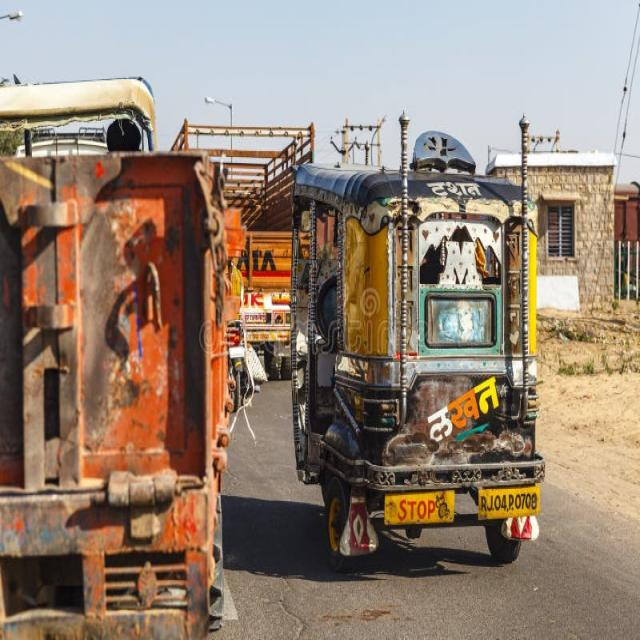autorickshaw: (291, 131, 545, 566)
